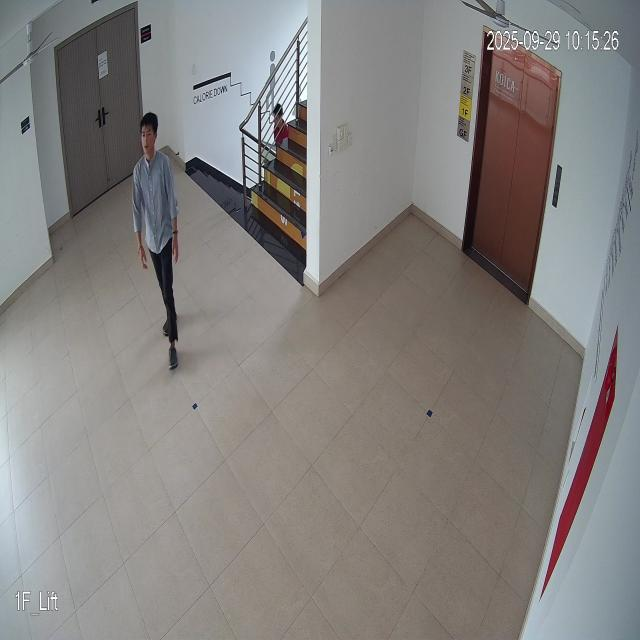face: (139, 109, 158, 157)
